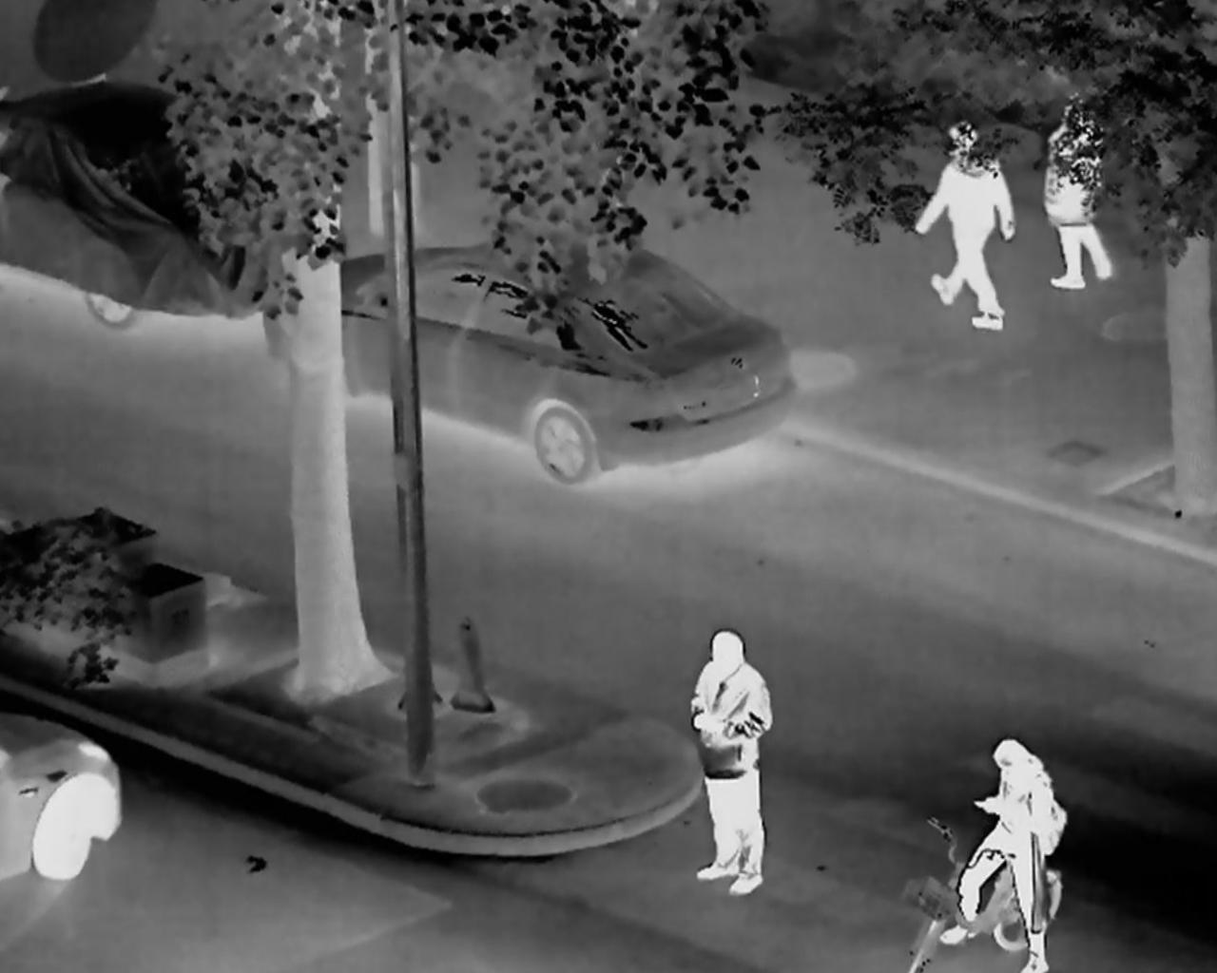person: (941, 735, 1063, 973), (686, 630, 775, 896), (913, 124, 1014, 337), (1043, 95, 1114, 291)
